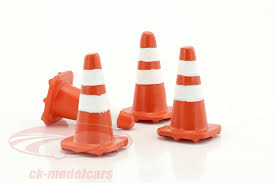cones: (62, 54, 129, 156), (160, 47, 221, 143), (127, 29, 172, 124)
